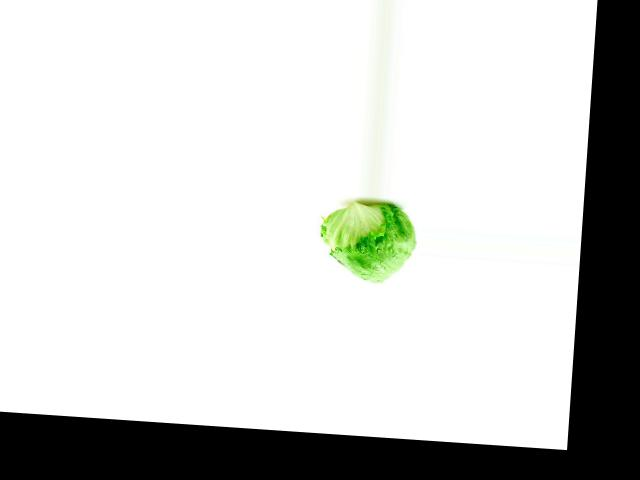lettuce: (317, 198, 421, 288)
